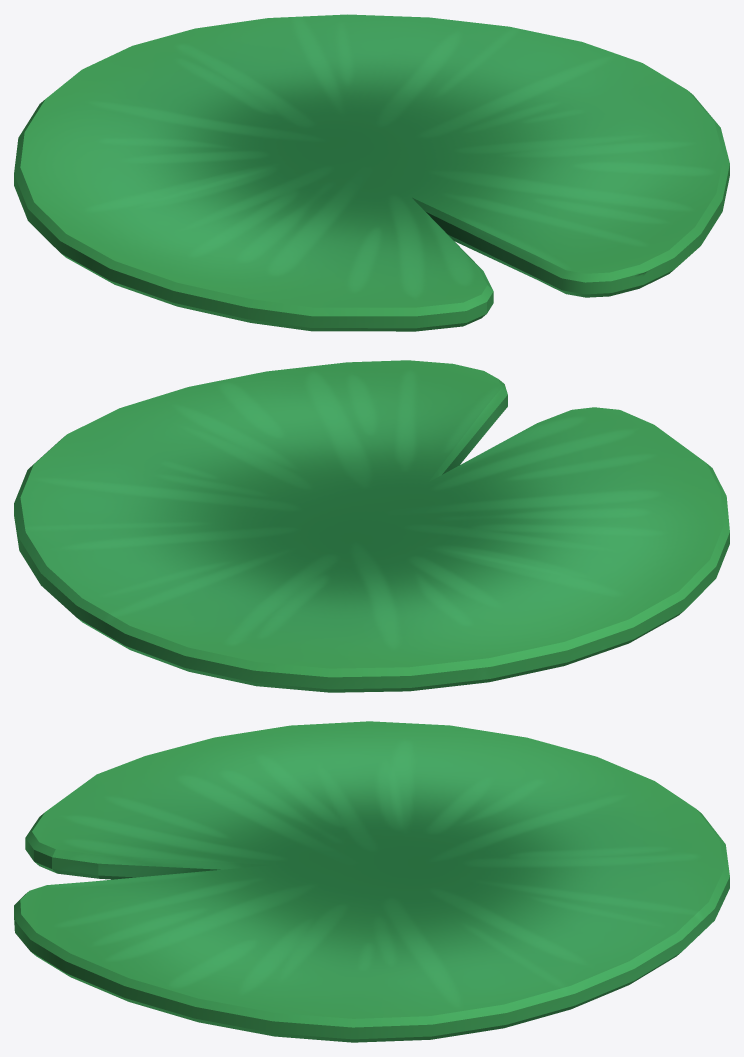
File: Nenuphar_01.fbx
3 views of the same model, one above another, from view 1: azimuth 30°, elevation 25°; view 2: azimuth 150°, elevation 25°; view 3: azimuth 270°, elevation 25° (orthographic).
Visible parts, largest first — view 1: Nenuphar_01; view 2: Nenuphar_01; view 3: Nenuphar_01.
Boxes of the visible parts, bbox=[...] form: Nenuphar_01: bbox=[14, 14, 729, 331]; Nenuphar_01: bbox=[14, 360, 729, 692]; Nenuphar_01: bbox=[14, 721, 729, 1042].
Bounding box in the file's own units: 1.92 × 0.0704 × 1.92.
